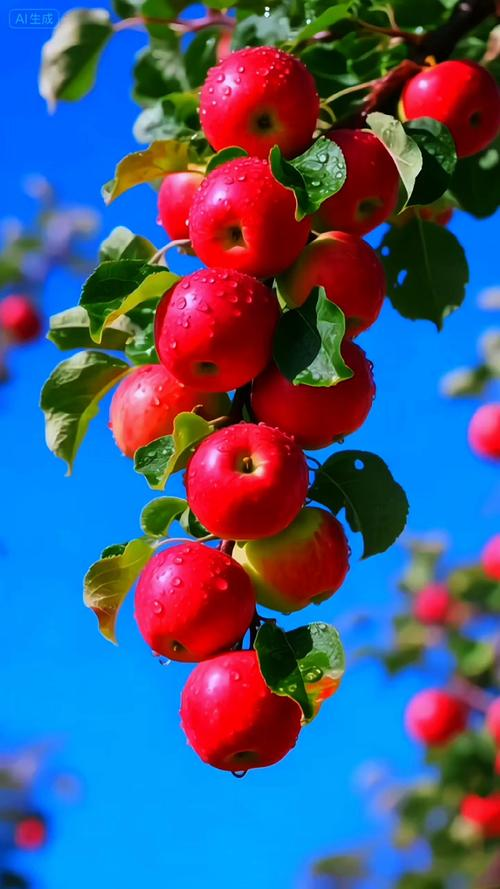ripe: (170, 664, 318, 780), (193, 39, 333, 161), (247, 327, 383, 444), (170, 426, 313, 537), (129, 531, 247, 660), (186, 154, 308, 277), (147, 274, 283, 381), (263, 231, 399, 336), (379, 57, 500, 166)
unripe: (231, 501, 356, 610)
